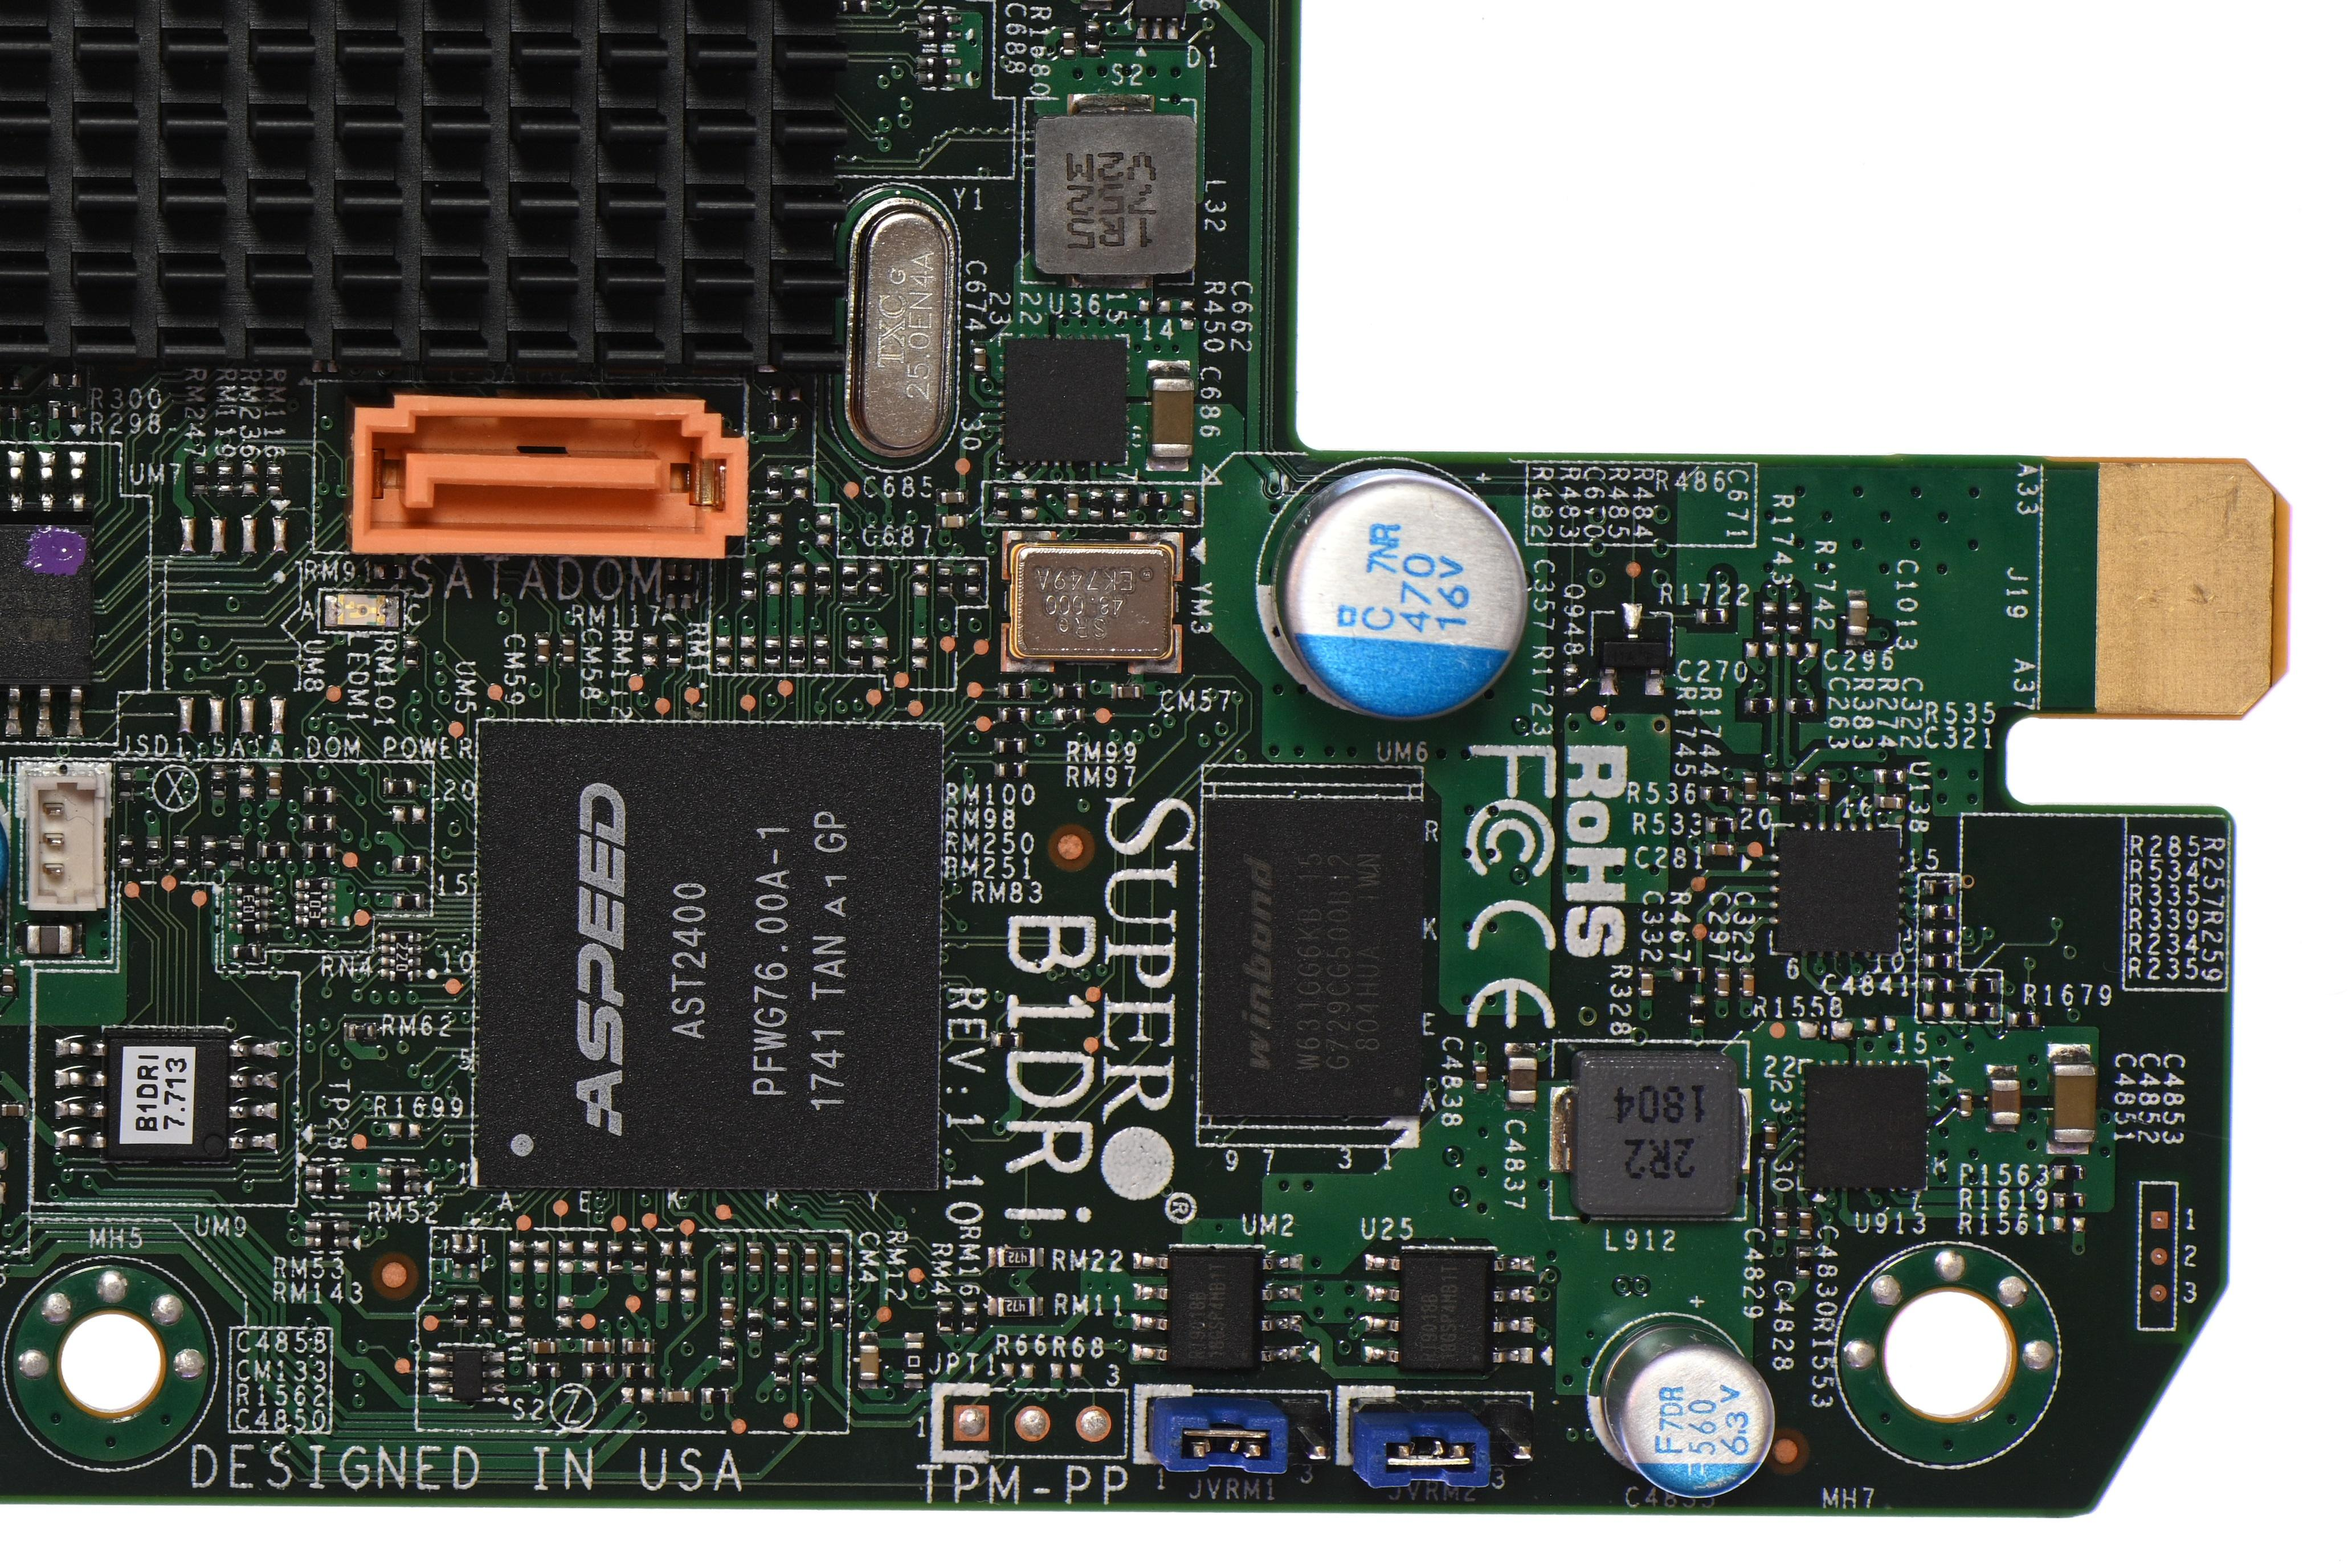ICs: (473, 716, 938, 1192), (1199, 795, 1425, 1122), (100, 1027, 231, 1164), (1773, 823, 1902, 957), (0, 508, 96, 688), (999, 332, 1129, 465), (1799, 1061, 1928, 1193), (1164, 1244, 1264, 1377), (1398, 1248, 1496, 1379)
capacitors: (1281, 467, 1531, 725), (1607, 1325, 1775, 1500), (1148, 375, 1197, 464), (2051, 1061, 2100, 1148), (23, 921, 77, 959), (1986, 1074, 2023, 1129), (1505, 1052, 1540, 1104), (0, 774, 11, 938), (1845, 597, 1871, 639), (856, 1342, 882, 1384), (1759, 1122, 1780, 1153), (1769, 1207, 1790, 1237), (1796, 1207, 1815, 1239), (1062, 488, 1082, 520), (970, 343, 989, 375), (1957, 1088, 1974, 1122), (264, 767, 284, 796), (558, 635, 578, 665), (1180, 490, 1199, 520), (938, 511, 968, 530), (534, 633, 551, 665), (1741, 772, 1759, 803), (746, 1244, 763, 1276), (1876, 793, 1904, 812), (772, 1246, 791, 1274), (1815, 774, 1832, 803), (1739, 971, 1757, 1001), (1638, 970, 1656, 999), (1472, 1062, 1489, 1092), (661, 1388, 691, 1405), (718, 1298, 735, 1328), (801, 1244, 819, 1274), (828, 1244, 845, 1274), (0, 1101, 26, 1120), (0, 964, 16, 996), (1706, 842, 1738, 857), (938, 488, 966, 506), (1061, 30, 1078, 58), (1715, 970, 1731, 999), (1115, 682, 1141, 700), (1082, 0, 1118, 5)
diodes: (448, 1346, 487, 1403), (331, 591, 388, 628), (1127, 0, 1188, 23)
inductors: (1029, 110, 1199, 280), (1572, 1046, 1739, 1218)
resistors: (387, 929, 416, 987), (233, 882, 264, 936), (301, 877, 329, 931), (901, 1337, 927, 1382), (994, 1293, 1038, 1320), (994, 1244, 1038, 1271), (448, 1241, 483, 1272), (312, 1218, 341, 1253), (661, 570, 697, 600), (383, 1164, 415, 1195), (922, 54, 954, 86), (313, 1164, 343, 1195), (924, 12, 954, 40), (383, 777, 415, 798), (392, 852, 424, 873), (392, 891, 424, 912), (345, 1020, 376, 1041), (798, 1298, 819, 1330), (770, 1353, 791, 1384), (991, 1031, 1022, 1052), (401, 637, 420, 670), (744, 1307, 763, 1340), (1923, 926, 1957, 945), (116, 837, 136, 866), (304, 786, 334, 807), (702, 1386, 731, 1407), (994, 759, 1024, 780), (663, 635, 684, 665), (765, 469, 786, 499), (49, 369, 81, 388), (189, 462, 208, 494), (215, 462, 235, 494), (264, 462, 284, 494), (375, 562, 406, 581), (208, 767, 228, 798), (116, 768, 135, 800), (142, 838, 161, 870), (170, 838, 189, 870), (200, 838, 219, 870), (451, 1295, 471, 1327), (527, 1362, 558, 1381), (719, 1242, 738, 1274), (800, 1353, 819, 1384), (605, 1241, 625, 1272), (1689, 996, 1708, 1027), (1783, 602, 1803, 633), (1764, 772, 1783, 803), (1790, 772, 1810, 803), (1561, 665, 1580, 697), (1796, 1246, 1815, 1278), (1085, 488, 1104, 520), (865, 565, 886, 593), (770, 411, 798, 432), (994, 738, 1027, 756), (837, 0, 870, 17), (257, 842, 287, 861), (304, 814, 334, 833), (229, 943, 259, 963), (583, 1362, 612, 1381), (623, 1362, 653, 1381), (2056, 1192, 2086, 1211), (2009, 1010, 2039, 1029), (1747, 697, 1776, 716), (1787, 697, 1817, 716), (1703, 784, 1732, 803), (999, 679, 1029, 698), (845, 639, 865, 669), (935, 565, 954, 595), (963, 565, 982, 595), (992, 488, 1012, 518), (1111, 490, 1131, 520), (1139, 490, 1169, 509), (738, 570, 758, 600), (1083, 21, 1103, 51), (49, 402, 81, 420), (226, 838, 243, 870), (478, 1295, 495, 1327), (718, 1337, 735, 1369), (772, 1298, 789, 1330), (828, 1300, 845, 1332), (630, 1241, 648, 1272), (961, 1304, 978, 1335), (1923, 901, 1955, 919), (1759, 602, 1776, 633), (1969, 1003, 1997, 1022), (1925, 952, 1953, 971), (1699, 607, 1727, 627), (1878, 767, 1906, 786), (812, 639, 831, 667), (788, 639, 807, 667), (304, 844, 334, 861), (936, 1304, 954, 1333), (2056, 1164, 2086, 1181), (1923, 975, 1953, 992), (1675, 968, 1705, 985), (1706, 817, 1736, 835), (1054, 682, 1083, 700), (1054, 705, 1083, 723), (0, 371, 24, 392), (999, 705, 1027, 723), (763, 637, 780, 665), (814, 565, 831, 593), (842, 565, 859, 593), (0, 402, 21, 424), (1965, 976, 1993, 992), (1927, 880, 1955, 896)
transistors: (1594, 633, 1671, 674)
